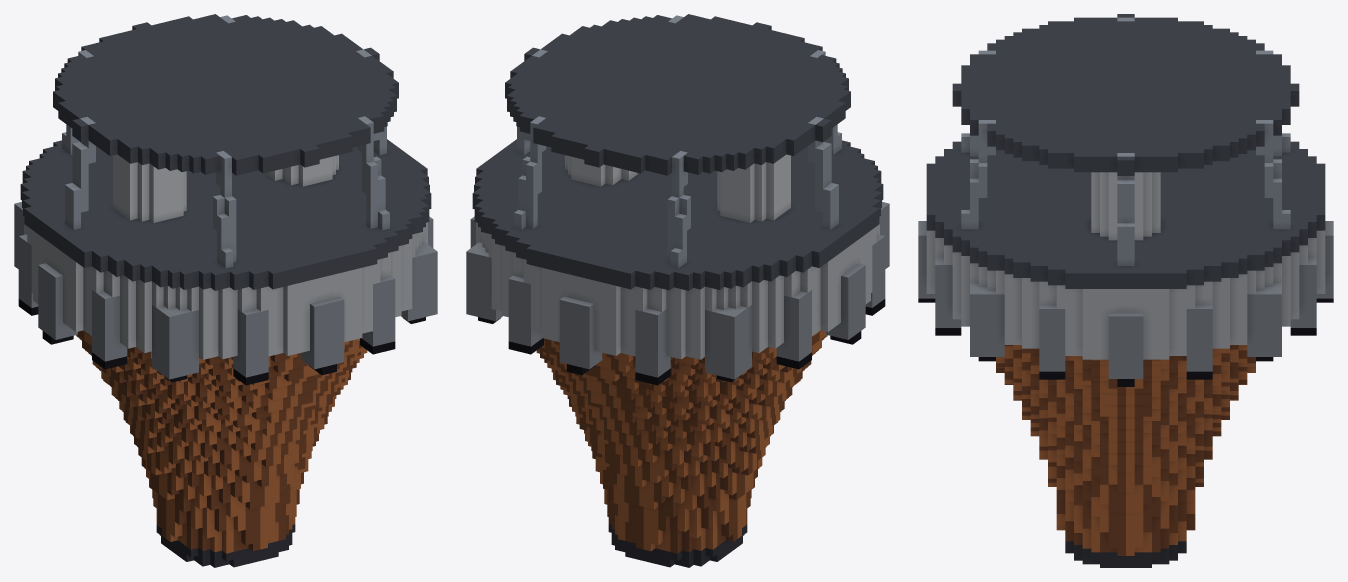
File: eng_aerospike.glb
3 renders of one model, left to right at view 1: azimuth 30°, elevation 25°; view 2: azimuth 150°, elevation 25°; view 3: azimuth 270°, elevation 25°, orthographic.
Parts seen in each view (by area): view 1: eng_aerospike; view 2: eng_aerospike; view 3: eng_aerospike.
Part boxes in pixels (x1,y1,x2,y2): eng_aerospike: (14,14,437,567); eng_aerospike: (466,14,889,567); eng_aerospike: (918,14,1333,567).
Bounding box in the file's own units: 2.4 × 2.9 × 2.4.
